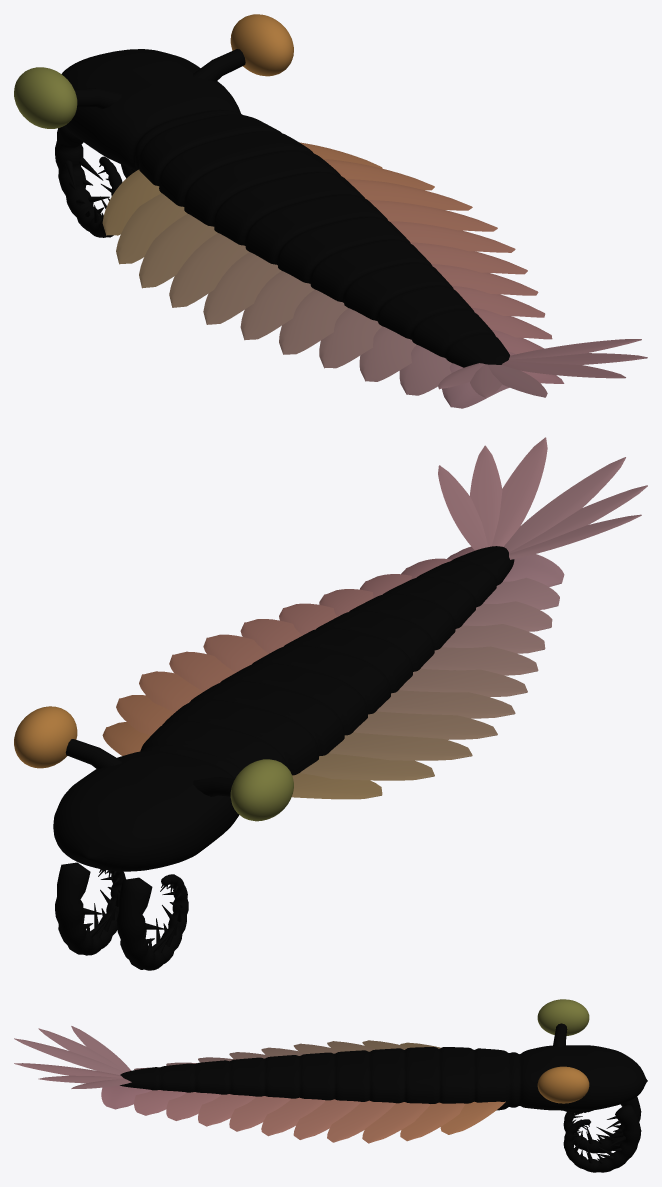
Rendered from anomalocaris.glb.
The picture shows the model from 3 angles, top to bottom: view 1: azimuth 30°, elevation 25°; view 2: azimuth 150°, elevation 25°; view 3: azimuth 270°, elevation 25°; orthographic projection. The views are drawn at different scales.
Visible parts, largest first — view 1: anomalocaris; view 2: anomalocaris; view 3: anomalocaris.
Boxes of the visible parts, bbox=[...] form: anomalocaris: bbox=[14, 14, 647, 408]; anomalocaris: bbox=[14, 437, 647, 970]; anomalocaris: bbox=[14, 999, 647, 1172].
Size of the model in its own units: 0.2986 by 0.1738 by 0.7805.
